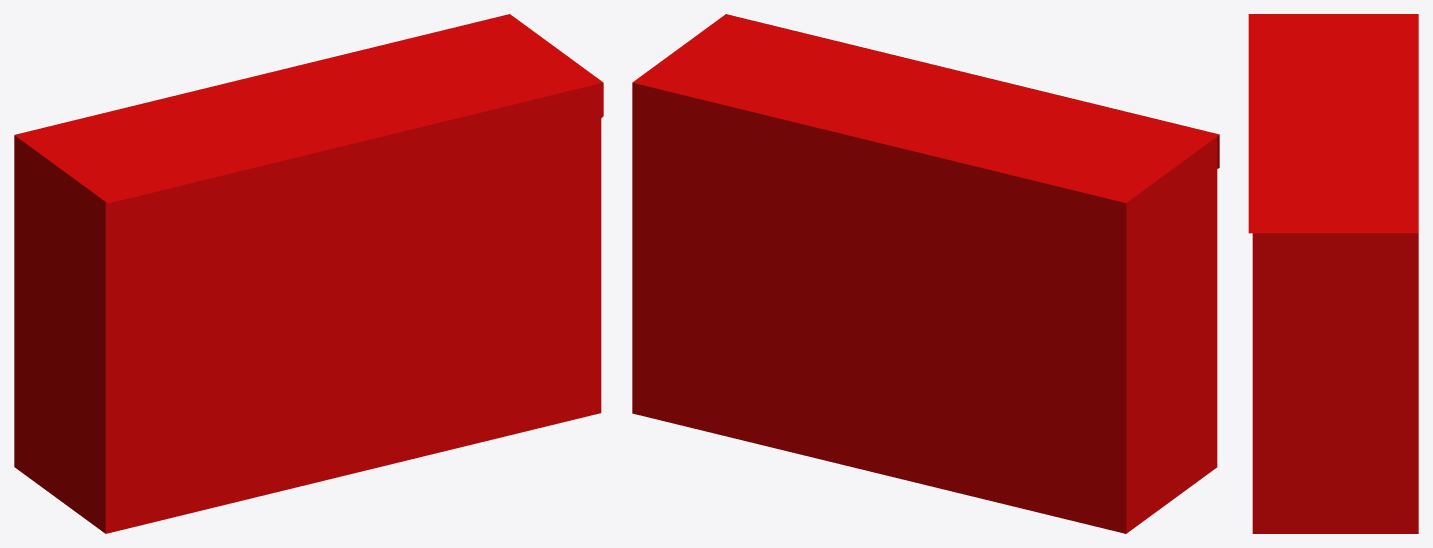
Rendered from hex11.glb.
The picture shows the model from 3 angles, left to right: view 1: azimuth 30°, elevation 25°; view 2: azimuth 150°, elevation 25°; view 3: azimuth 270°, elevation 25°; orthographic projection. The views are drawn at different scales.
Visible parts, largest first — view 1: Base, Lid, Lid.001; view 2: Base, Lid.001; view 3: Base, Lid.001.
Boxes of the visible parts, box(x1,y1,x2,y2) form: Base: box(14, 119, 601, 533); Lid: box(108, 82, 603, 352); Lid.001: box(14, 14, 602, 203); Base: box(632, 82, 1217, 533); Lid.001: box(632, 14, 1219, 202); Base: box(1252, 233, 1418, 533); Lid.001: box(1248, 14, 1418, 233).
Size of the model in its own units: 250 by 160 by 82.03.
